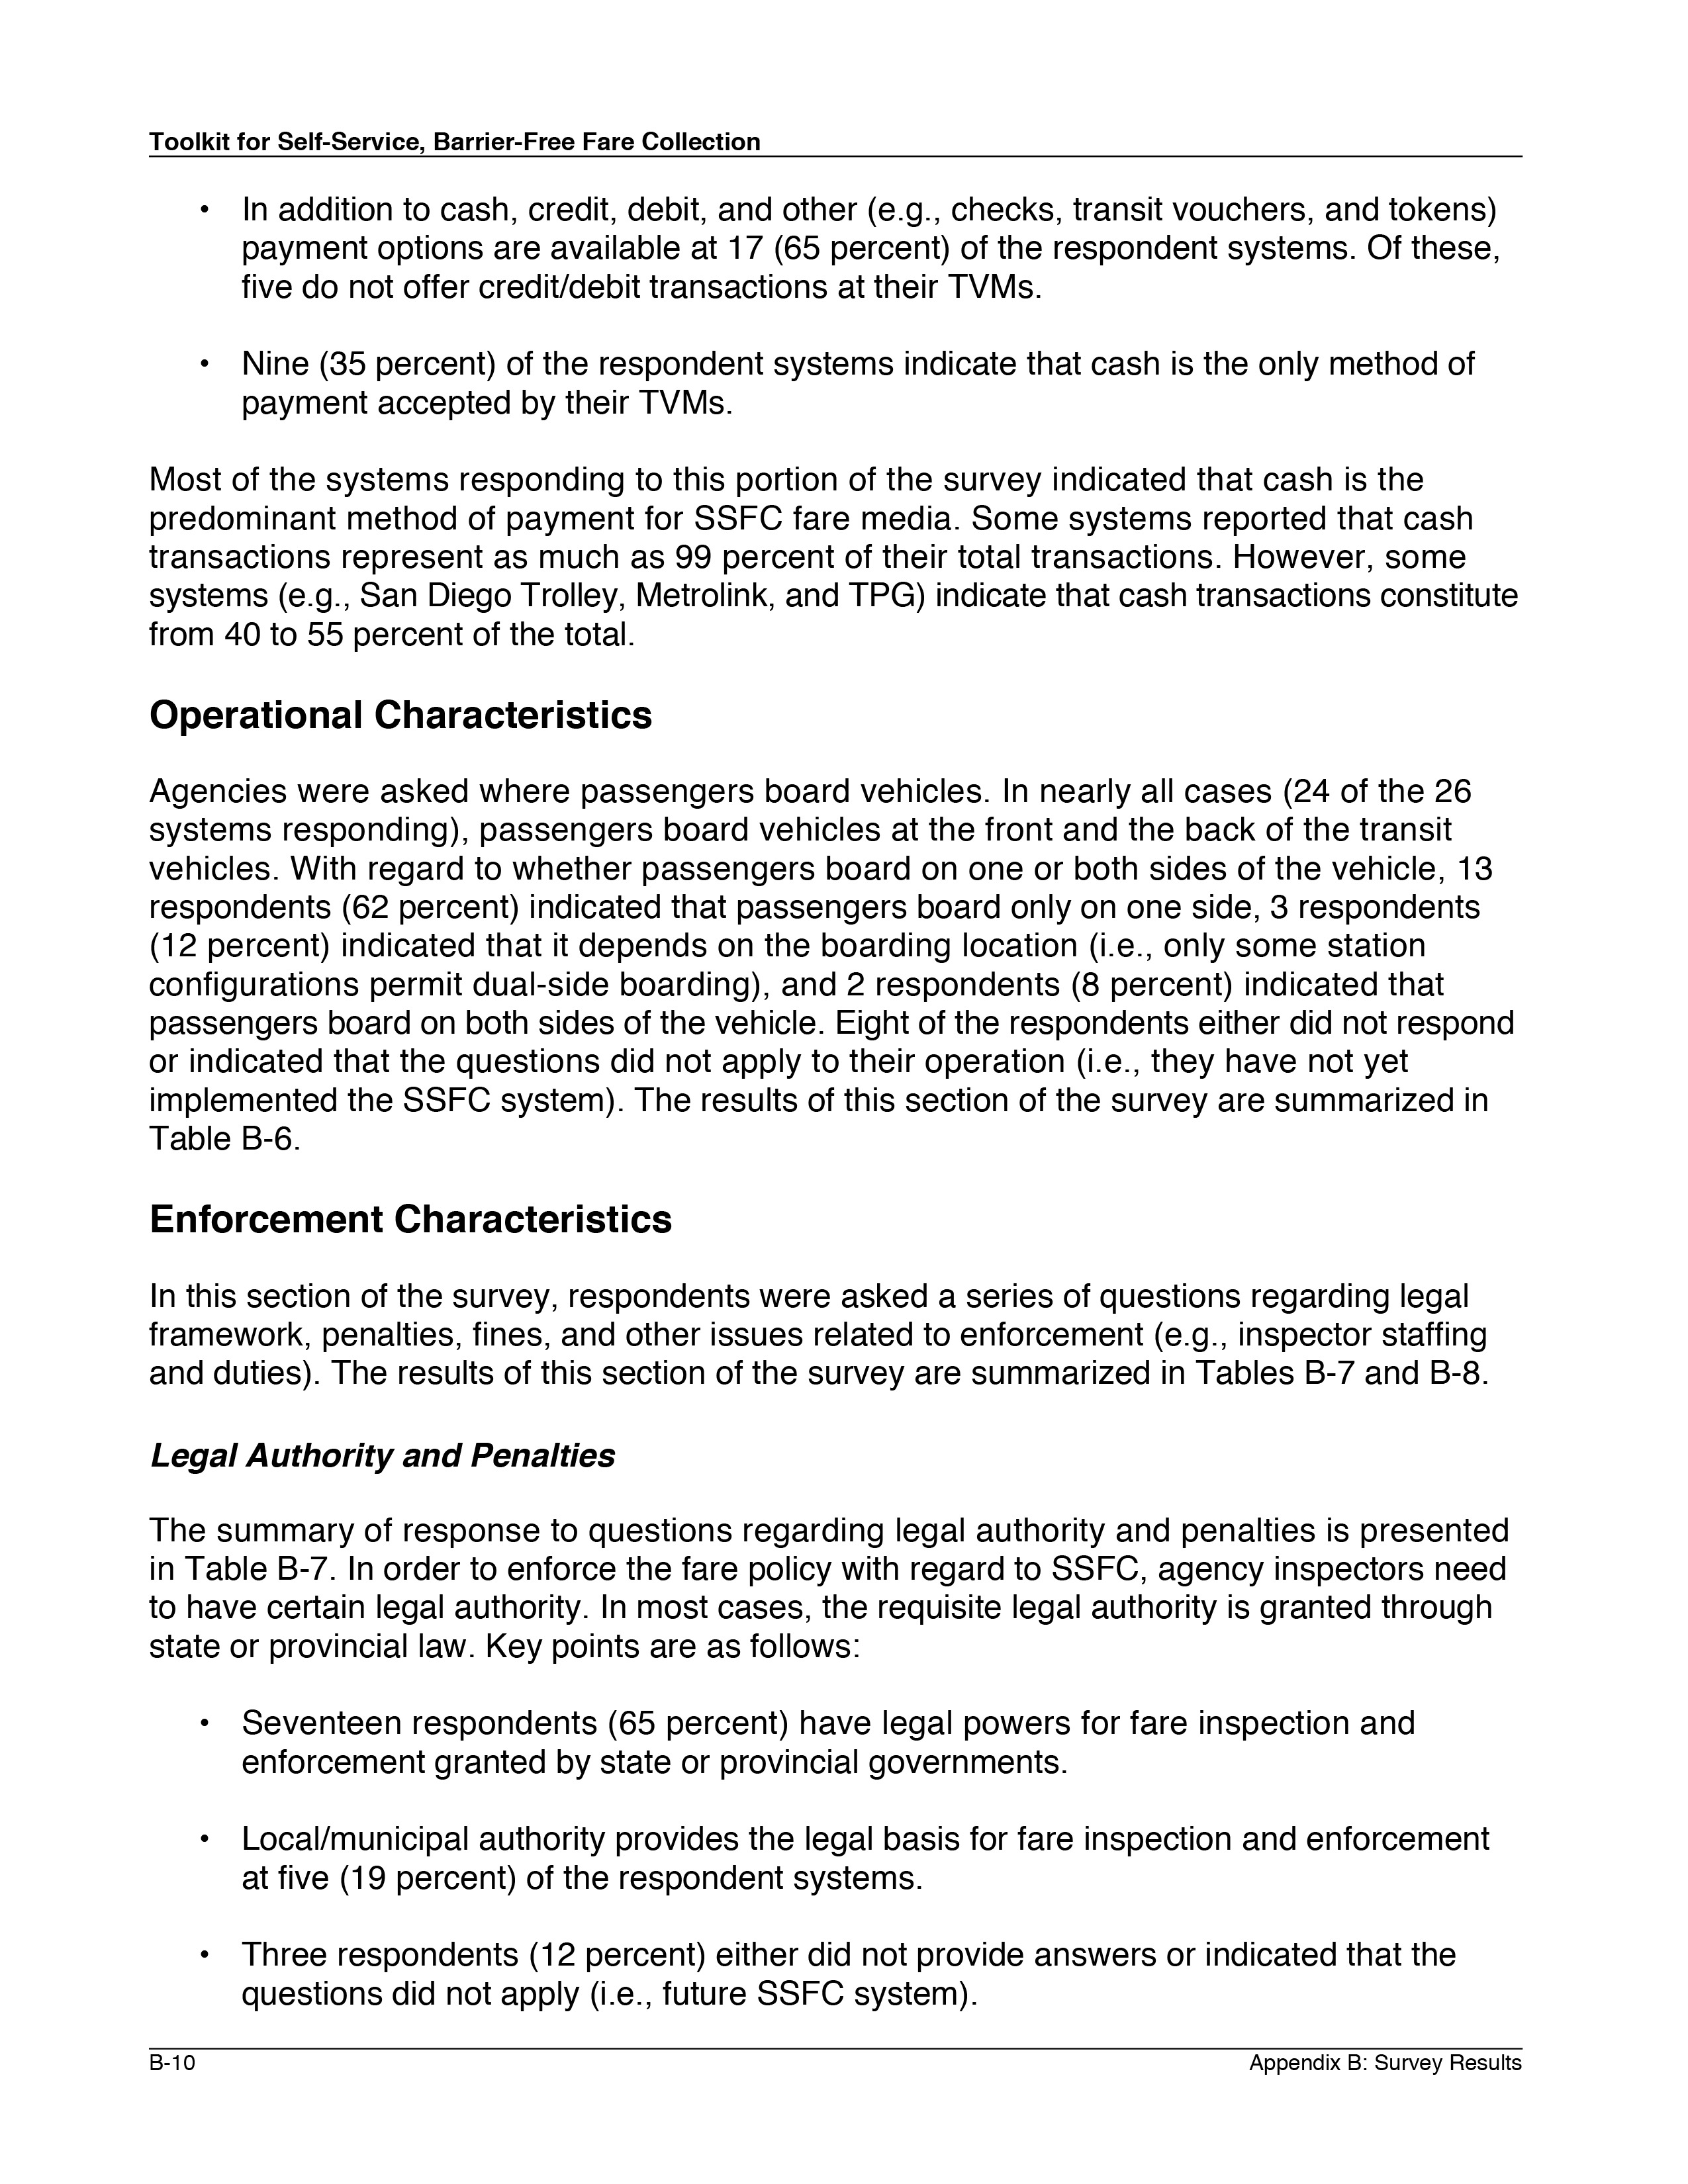list: (188, 1709, 1500, 2016), (186, 186, 1523, 429)
section: (149, 688, 654, 734), (142, 1197, 681, 1239), (142, 1441, 628, 1477)
text: (133, 776, 1537, 1156), (142, 456, 1514, 661), (149, 1510, 1500, 1665), (145, 1275, 1491, 1395)
